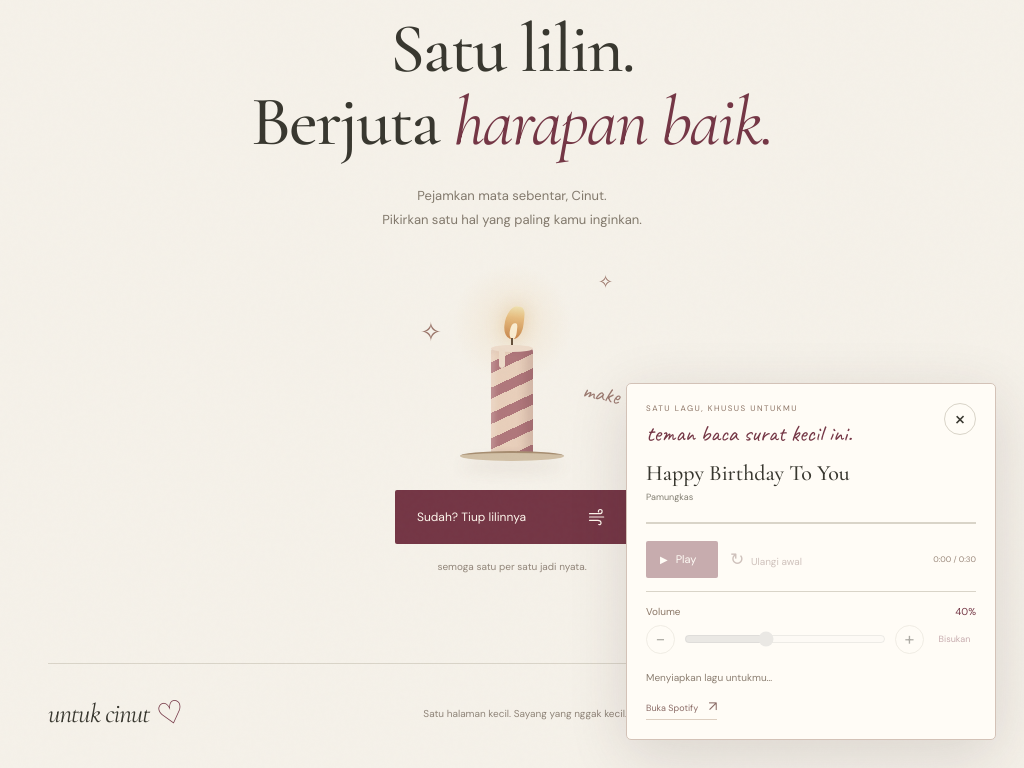
Test: Ucapan ulang tahun Cinut › meniup lilin, menampilkan harapan, dan bisa dinyalakan kembali
(page scrolled)
Click the button "Sudah? Tiup lilinnya" at (512, 517), box [395, 490, 629, 544]
Wait 700 ms
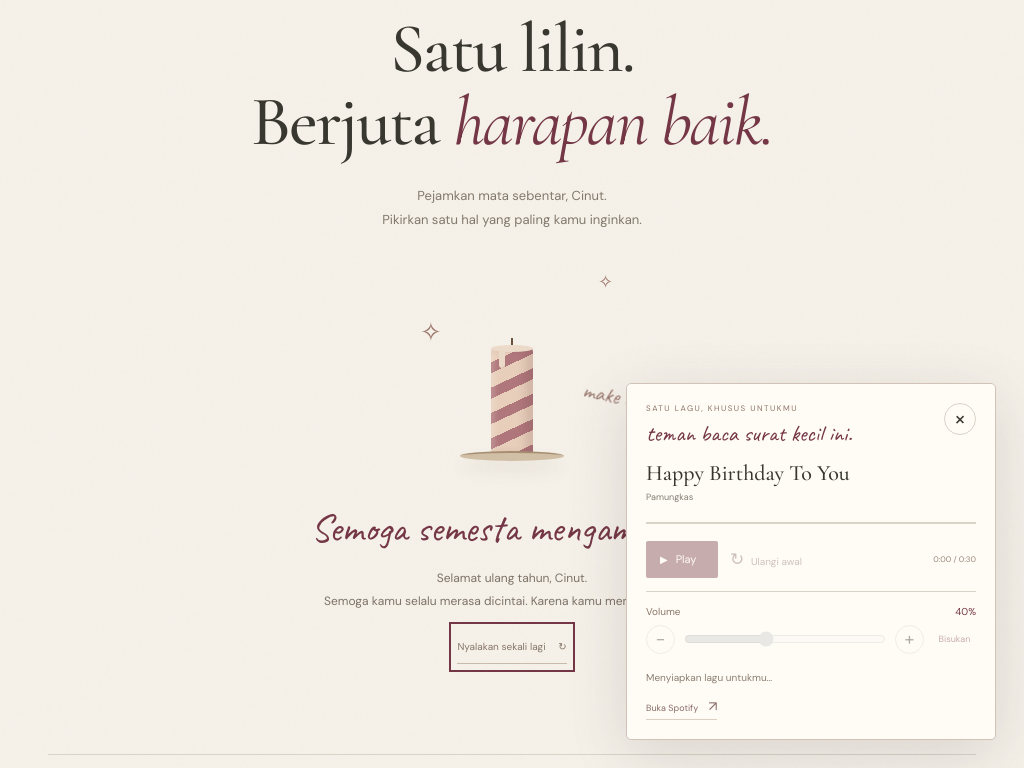
Expected: the message shows "Semoga semesta mengaminkan.", [311, 504, 713, 553]
Click the button "Nyalakan sekali lagi ↻" at (512, 647), box [457, 630, 567, 664]
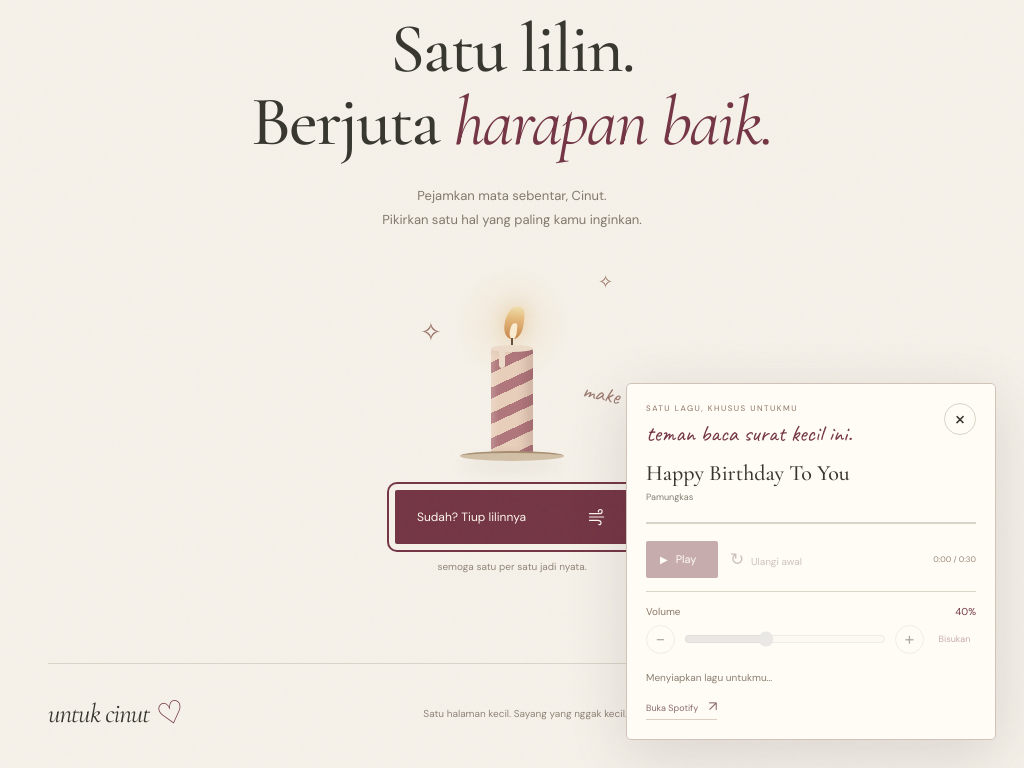
Expected: the message is gone
Expected: the button "Sudah? Tiup lilinnya" is enabled
Click the button "Sudah? Tiup lilinnya" at (512, 517), box [395, 490, 629, 544]
Wait 700 ms
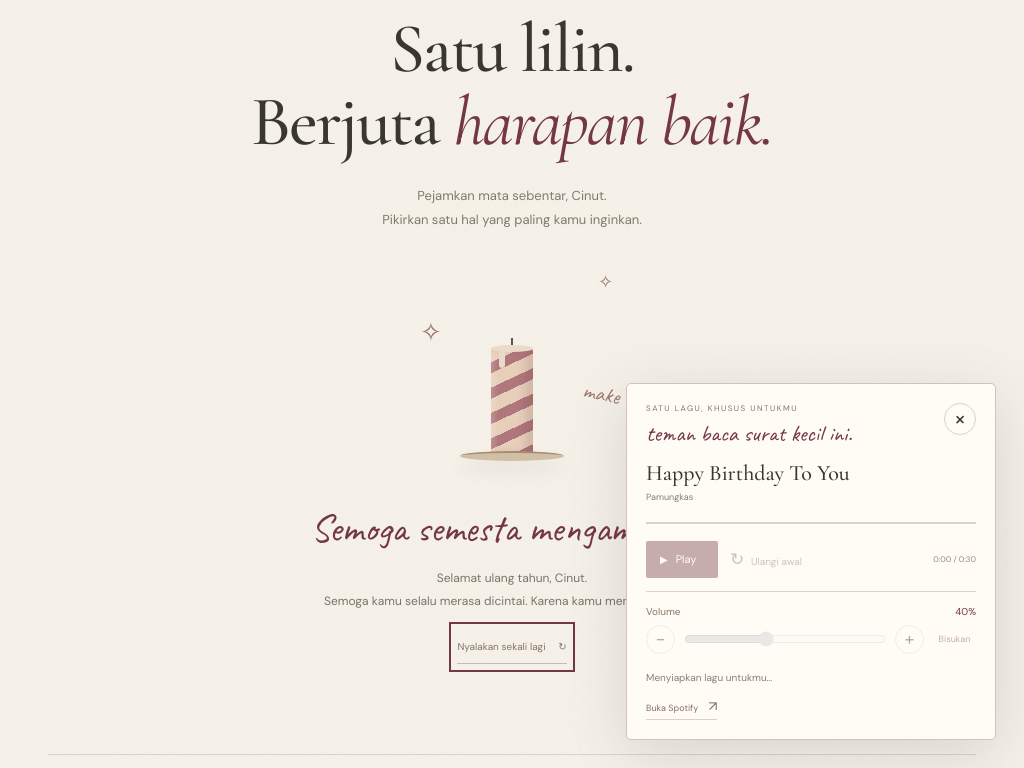
Expected: the message shows "Semoga semesta mengaminkan.", [311, 504, 713, 553]
Click the button "Nyalakan sekali lagi ↻" at (512, 647), box [457, 630, 567, 664]
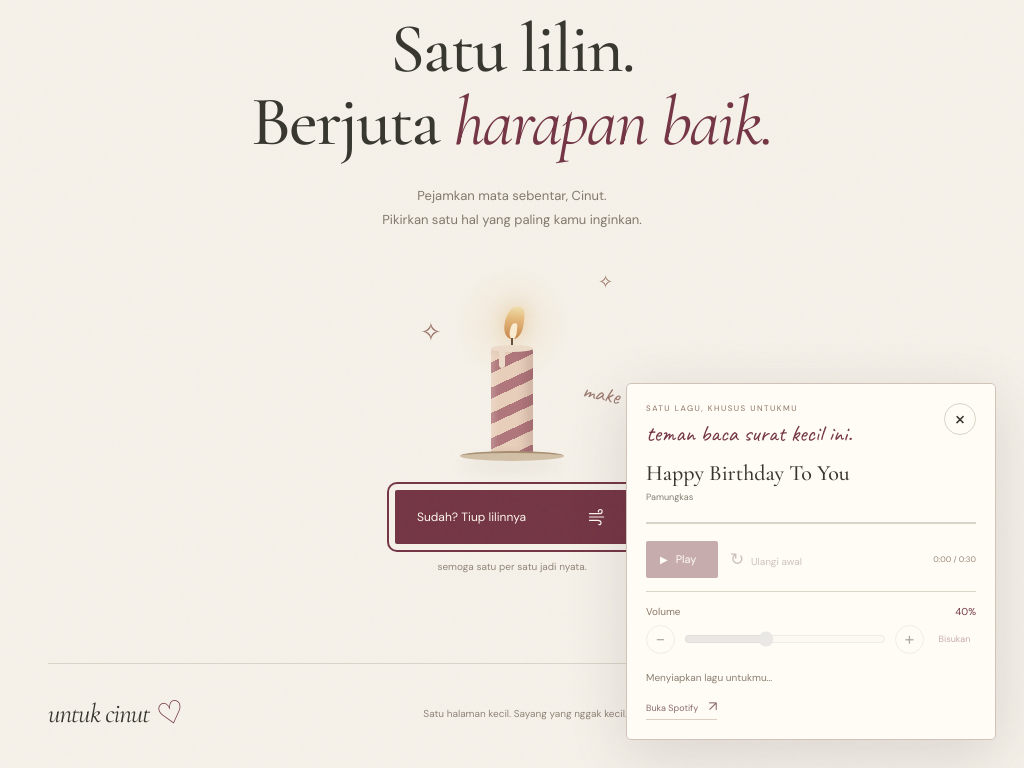
Expected: the message is gone
Expected: the button "Sudah? Tiup lilinnya" is enabled, [395, 490, 629, 544]
